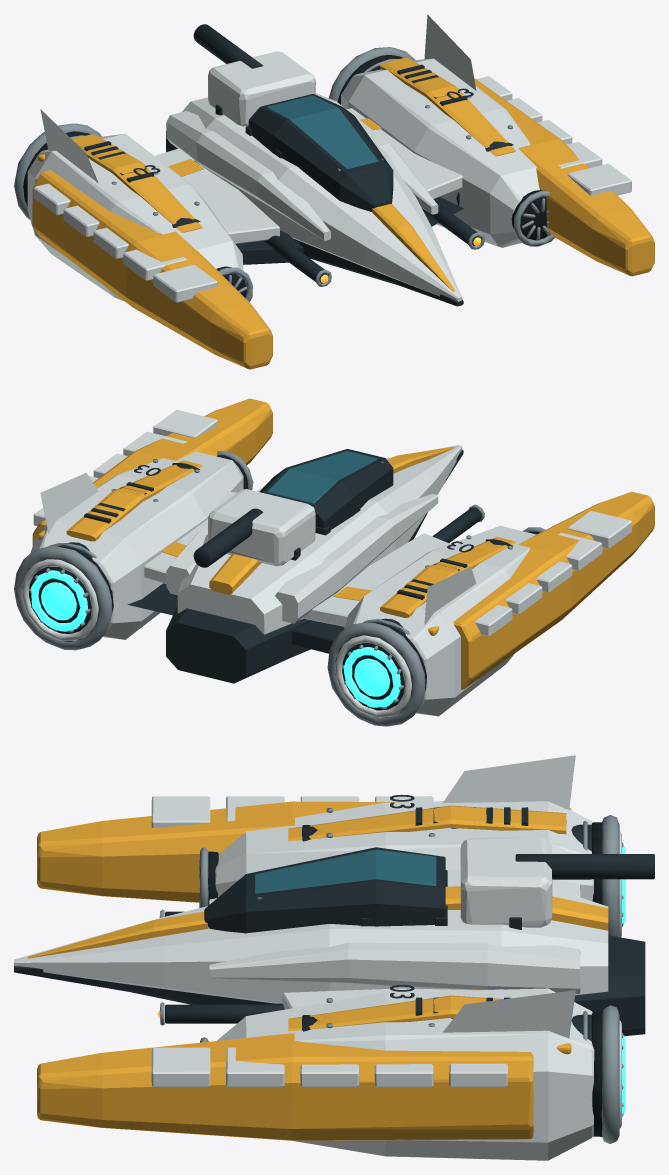
Rendered from bastion-lod.glb.
The picture shows the model from 3 angles, top to bottom: view 1: azimuth 30°, elevation 25°; view 2: azimuth 150°, elevation 25°; view 3: azimuth 270°, elevation 25°; orthographic projection. The views are drawn at different scales.
Visible parts, largest first — view 1: Ceramic_Paint.002, Livery_Paint.002, Carbon_Composite.002, Titanium.002, Canopy_Glass.002, Recesses.002; view 2: Ceramic_Paint.002, Livery_Paint.002, Carbon_Composite.002, Titanium.002, Ion_Emission.002, Canopy_Glass.002, Recesses.002; view 3: Ceramic_Paint.002, Livery_Paint.002, Carbon_Composite.002, Titanium.002, Canopy_Glass.002, Recesses.002.
Boxes of the visible parts, x1=… form: Ceramic_Paint.002: x1=27, y1=14, x2=631, y2=302; Livery_Paint.002: x1=32, y1=58, x2=654, y2=369; Carbon_Composite.002: x1=84, y1=24, x2=513, y2=306; Titanium.002: x1=14, y1=47, x2=554, y2=301; Canopy_Glass.002: x1=267, y1=95, x2=378, y2=168; Recesses.002: x1=23, y1=55, x2=547, y2=297; Ceramic_Paint.002: x1=22, y1=410, x2=631, y2=717; Livery_Paint.002: x1=32, y1=398, x2=654, y2=689; Carbon_Composite.002: x1=22, y1=449, x2=513, y2=717; Titanium.002: x1=14, y1=451, x2=545, y2=726; Ion_Emission.002: x1=31, y1=570, x2=400, y2=707; Canopy_Glass.002: x1=267, y1=451, x2=378, y2=503; Recesses.002: x1=58, y1=455, x2=539, y2=690; Ceramic_Paint.002: x1=14, y1=755, x2=621, y2=1160; Livery_Paint.002: x1=28, y1=801, x2=608, y2=1140; Carbon_Composite.002: x1=14, y1=794, x2=654, y2=1041; Titanium.002: x1=160, y1=808, x2=623, y2=1143; Canopy_Glass.002: x1=255, y1=849, x2=436, y2=893; Recesses.002: x1=208, y1=822, x2=602, y2=1136.
Size of the model in its own units: 7.05 by 2.24 by 6.9.
